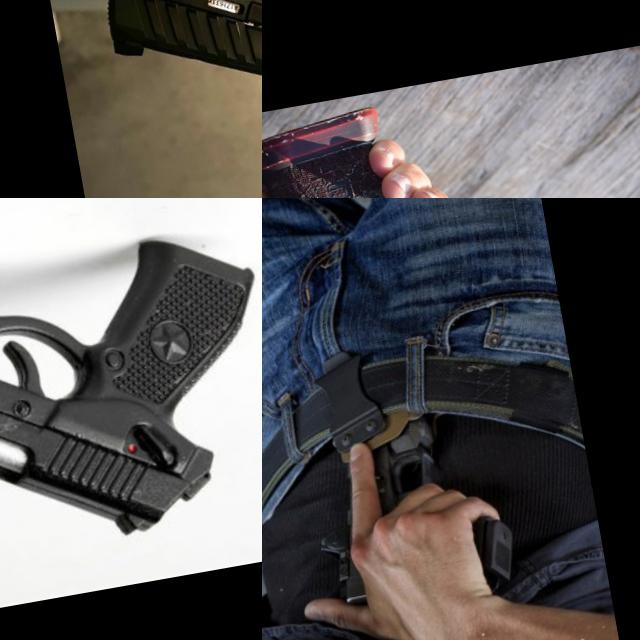handgun: (0, 198, 262, 596), (262, 47, 640, 198), (300, 412, 526, 624), (89, 0, 262, 181)
